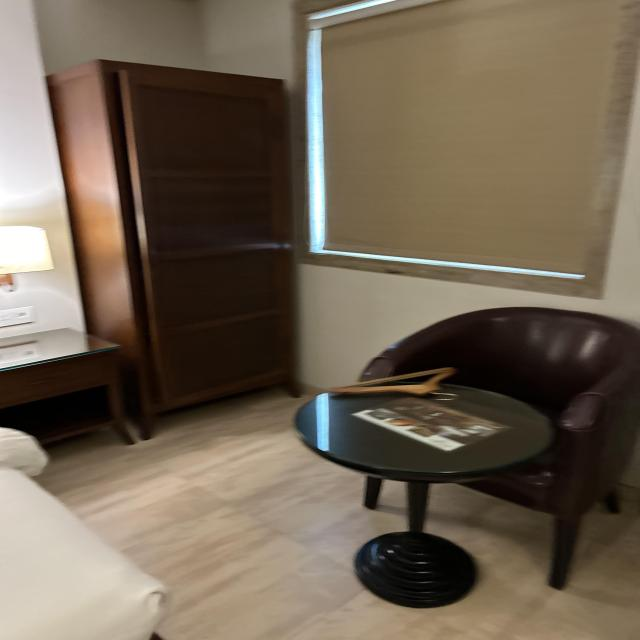mess: (300, 350, 568, 562)
